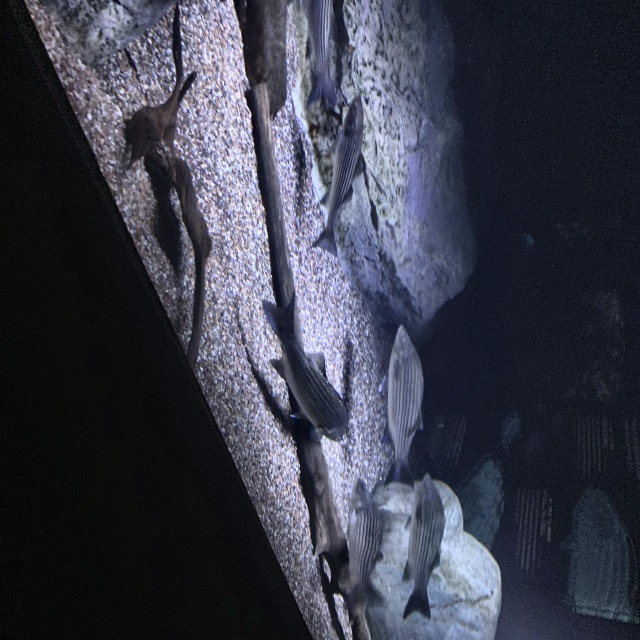fish: (257, 287, 351, 445), (308, 94, 368, 262), (397, 471, 448, 625), (379, 324, 427, 485), (340, 476, 387, 615), (299, 1, 341, 111)
